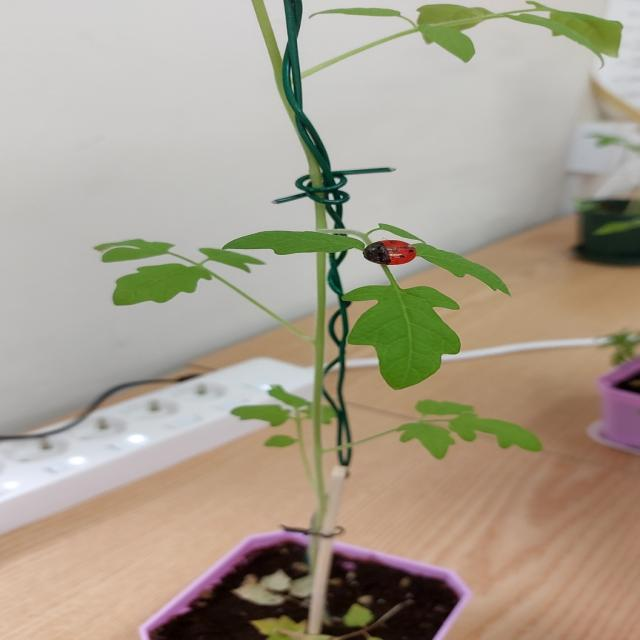bug: (354, 238, 434, 274)
